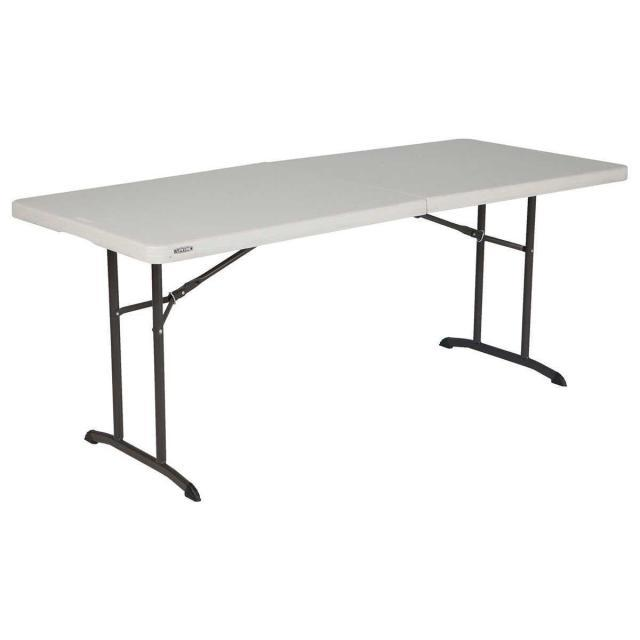table: (6, 104, 636, 508)
